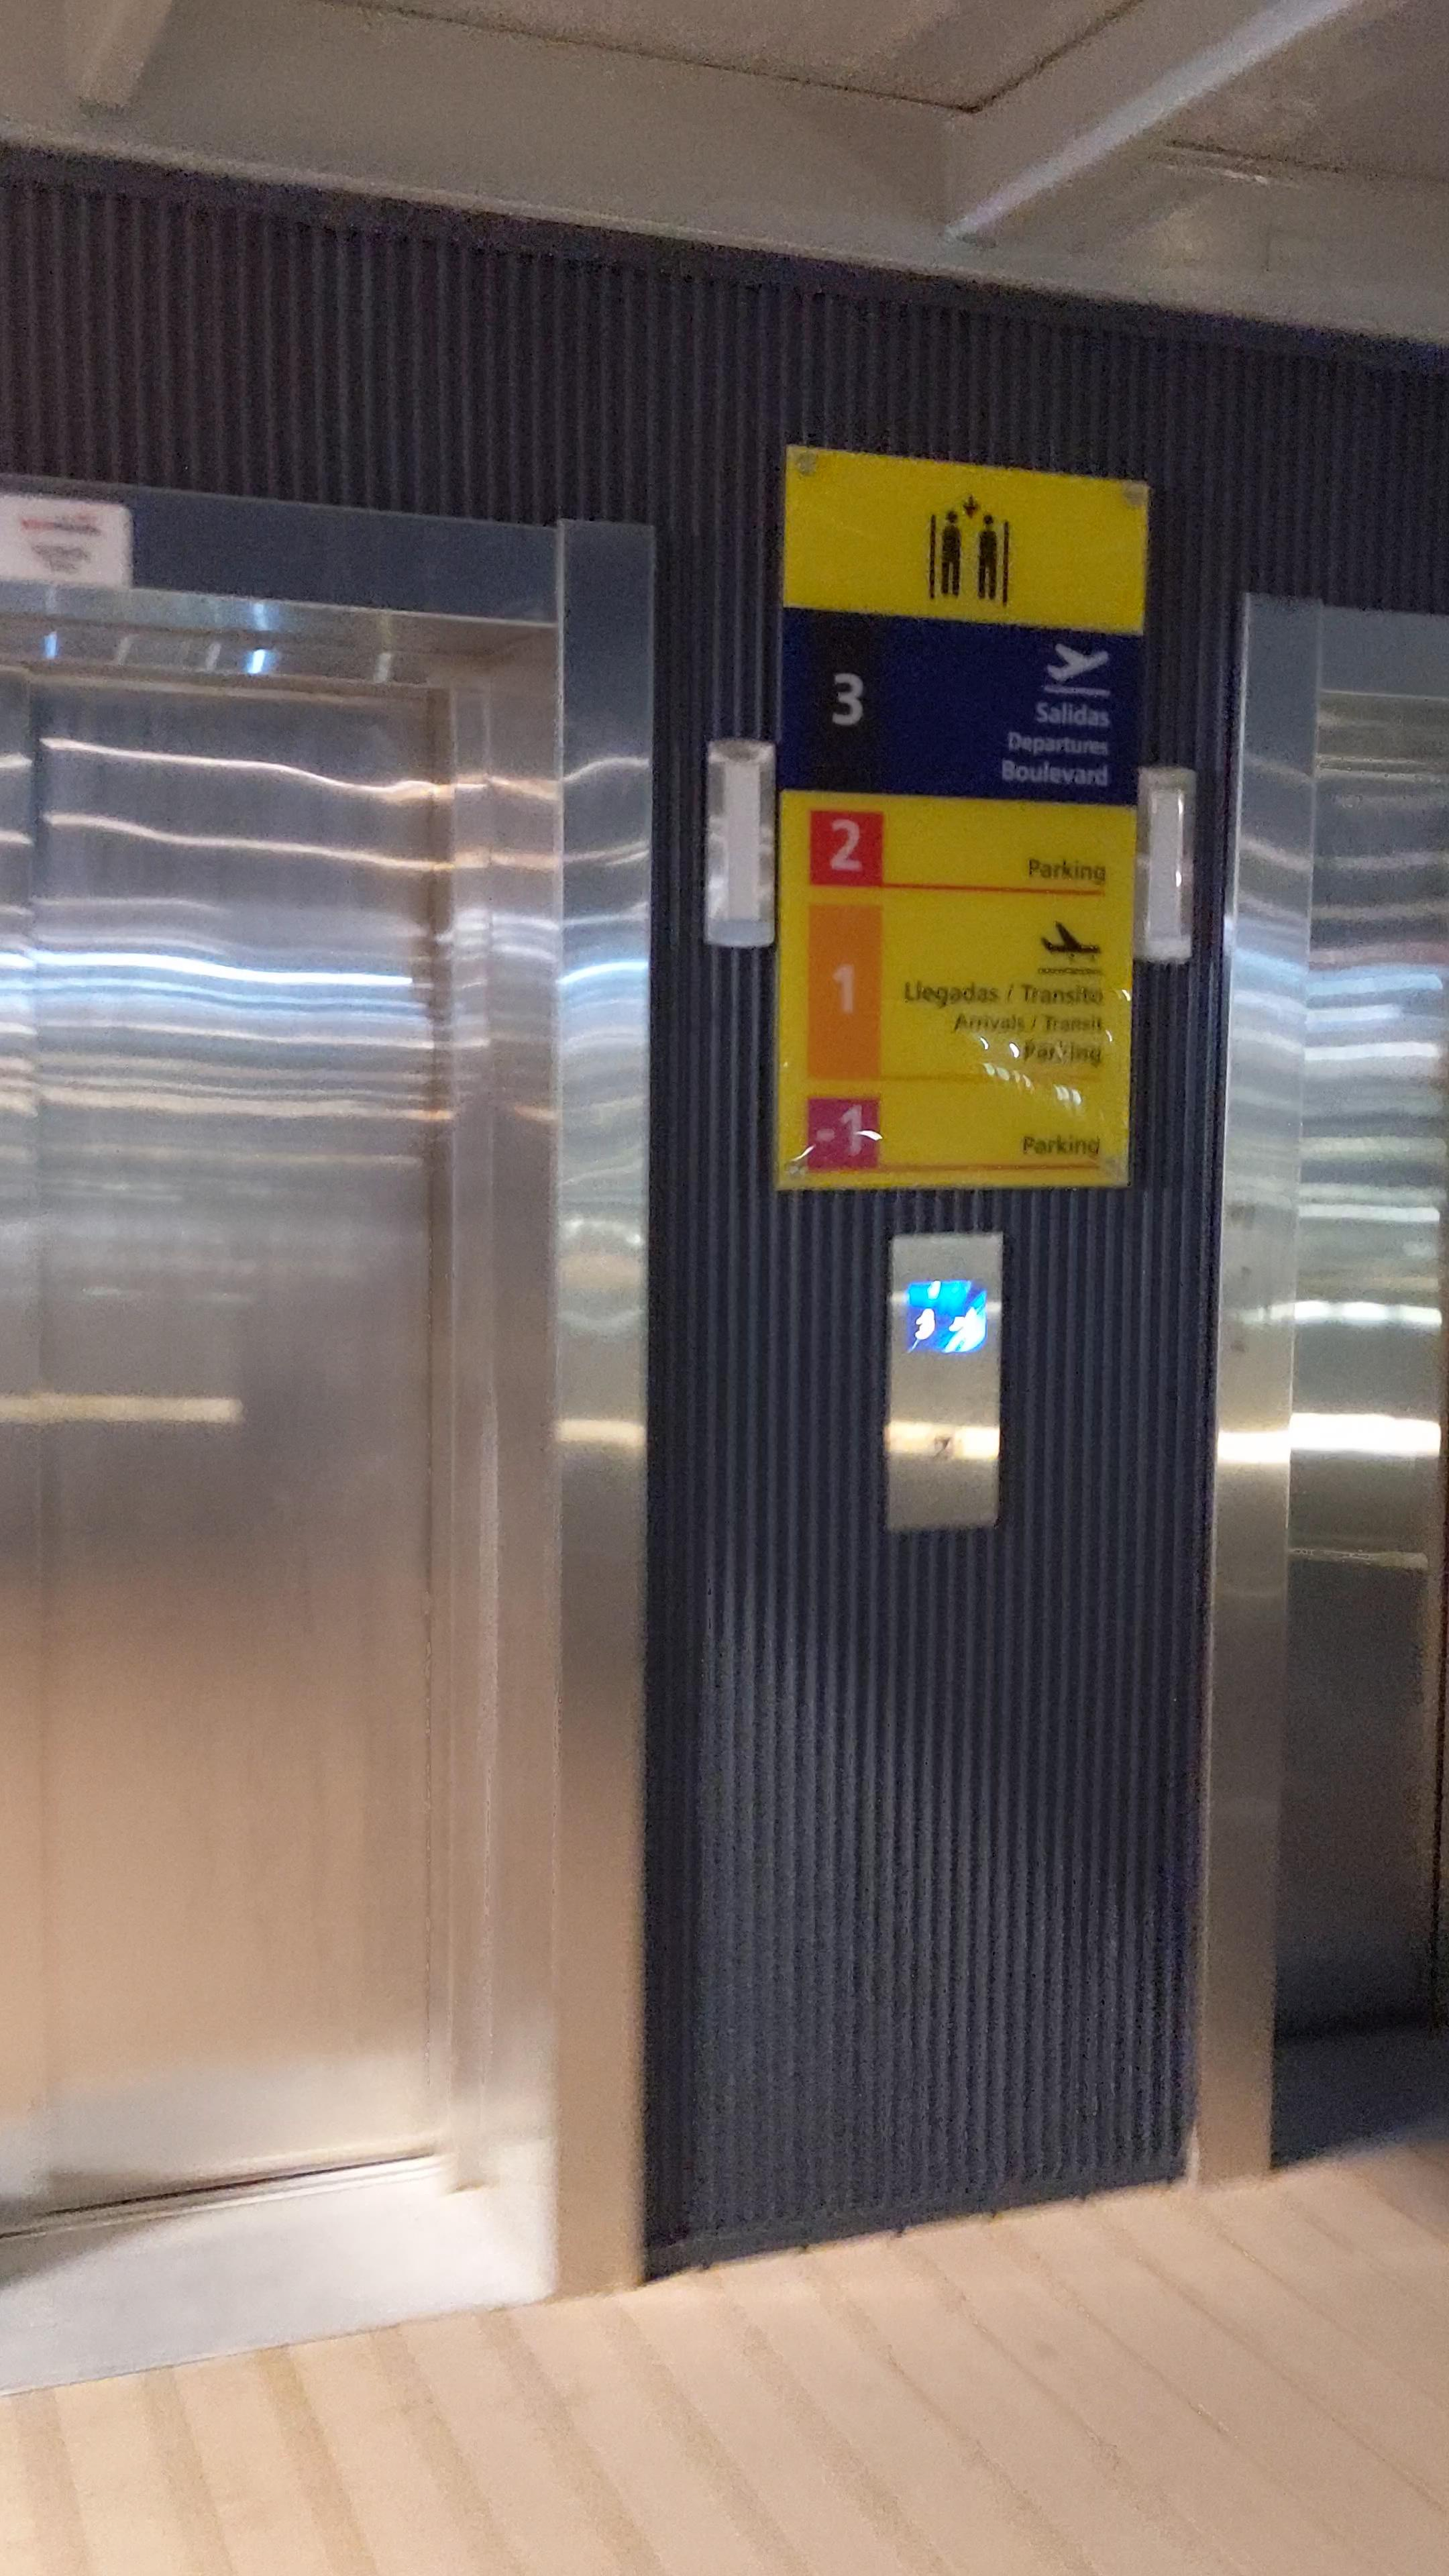airplane symbol: (1039, 918, 1104, 962), (1042, 640, 1104, 685)
